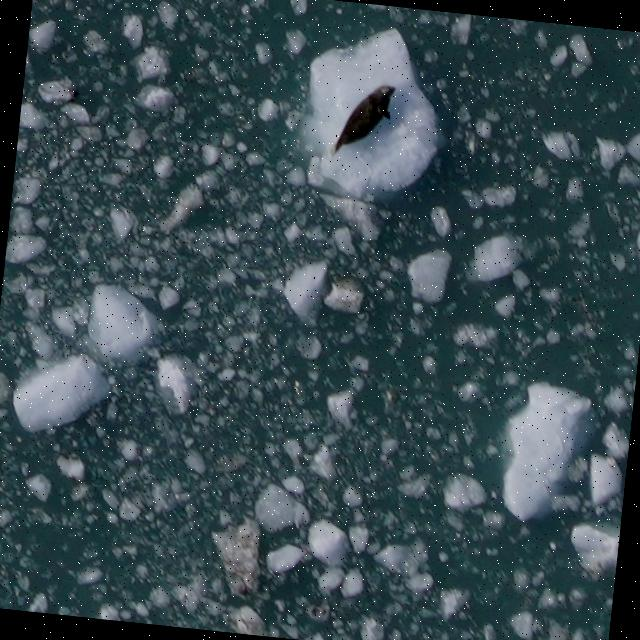seal: (326, 74, 400, 166)
